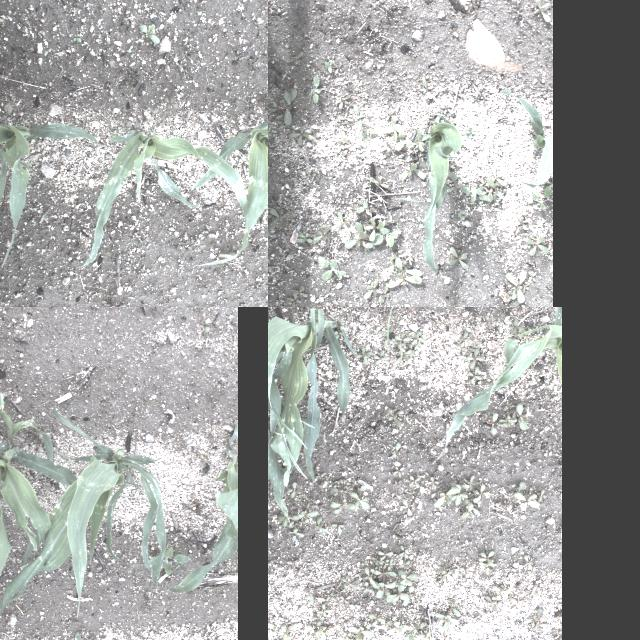crop: (0, 406, 165, 640), (79, 130, 248, 268), (430, 307, 561, 464), (268, 309, 353, 489), (0, 444, 77, 640), (0, 114, 98, 266), (392, 113, 476, 271), (170, 416, 238, 594), (189, 115, 268, 232), (501, 91, 553, 187), (0, 379, 56, 463), (268, 312, 289, 520)
weed: (359, 546, 419, 606), (301, 575, 356, 640), (432, 469, 488, 519), (368, 613, 441, 640), (328, 472, 372, 516), (276, 500, 318, 544), (482, 398, 530, 436), (456, 331, 488, 384), (481, 580, 527, 614), (368, 307, 405, 348), (511, 478, 551, 514), (392, 331, 431, 364), (432, 594, 462, 632), (161, 545, 195, 577), (386, 258, 422, 288), (270, 89, 296, 125), (438, 562, 472, 586), (339, 616, 372, 640), (345, 222, 373, 250), (504, 272, 530, 302), (318, 256, 347, 280), (357, 344, 388, 366), (312, 517, 348, 535), (389, 440, 405, 480), (474, 548, 498, 574), (384, 407, 410, 429), (526, 605, 548, 631), (372, 227, 400, 247), (459, 186, 489, 204), (272, 620, 299, 640), (268, 207, 292, 228), (365, 217, 385, 241), (396, 495, 416, 519), (524, 237, 550, 255), (309, 76, 327, 102), (395, 124, 413, 150), (449, 247, 469, 269), (288, 126, 312, 144), (485, 178, 503, 202), (422, 468, 440, 492), (138, 23, 160, 42), (518, 551, 536, 573), (533, 0, 550, 22), (382, 117, 396, 141), (312, 225, 330, 243), (508, 318, 526, 336), (476, 315, 498, 329), (70, 628, 95, 640), (399, 164, 417, 180), (336, 212, 349, 234), (415, 130, 429, 150), (532, 192, 546, 212), (492, 166, 506, 186), (197, 452, 211, 472), (406, 472, 420, 492), (355, 200, 371, 217), (290, 480, 302, 502), (420, 80, 434, 98), (364, 280, 378, 298), (353, 104, 363, 128), (369, 176, 388, 188), (334, 95, 350, 109), (412, 162, 426, 178), (336, 136, 348, 154), (285, 52, 303, 64), (378, 140, 396, 152), (286, 293, 301, 307), (358, 130, 377, 140), (526, 586, 538, 600), (446, 184, 466, 192), (437, 399, 447, 415), (384, 108, 396, 120), (544, 180, 552, 198), (381, 286, 389, 304), (324, 60, 334, 74), (298, 233, 312, 243), (389, 253, 406, 261), (338, 112, 352, 121), (72, 32, 82, 44), (268, 91, 276, 106), (338, 118, 348, 130), (424, 120, 434, 132), (518, 218, 528, 230), (528, 270, 538, 282), (441, 105, 454, 114), (458, 211, 468, 221), (466, 127, 476, 137), (293, 286, 303, 296), (105, 292, 117, 300), (334, 62, 342, 74), (333, 300, 346, 307), (197, 12, 207, 20), (330, 128, 338, 138), (446, 171, 456, 179), (202, 328, 210, 338), (268, 199, 279, 206), (388, 260, 394, 272), (480, 178, 488, 186), (43, 49, 51, 56), (277, 300, 291, 304), (405, 119, 411, 128), (534, 150, 542, 156), (194, 307, 203, 312), (408, 157, 418, 161), (58, 31, 64, 37), (128, 45, 132, 53), (0, 21, 4, 28), (24, 8, 28, 14), (116, 126, 122, 130), (112, 132, 116, 138), (138, 237, 142, 243), (272, 130, 276, 136), (422, 76, 428, 80), (374, 0, 384, 2), (383, 5, 387, 9)
